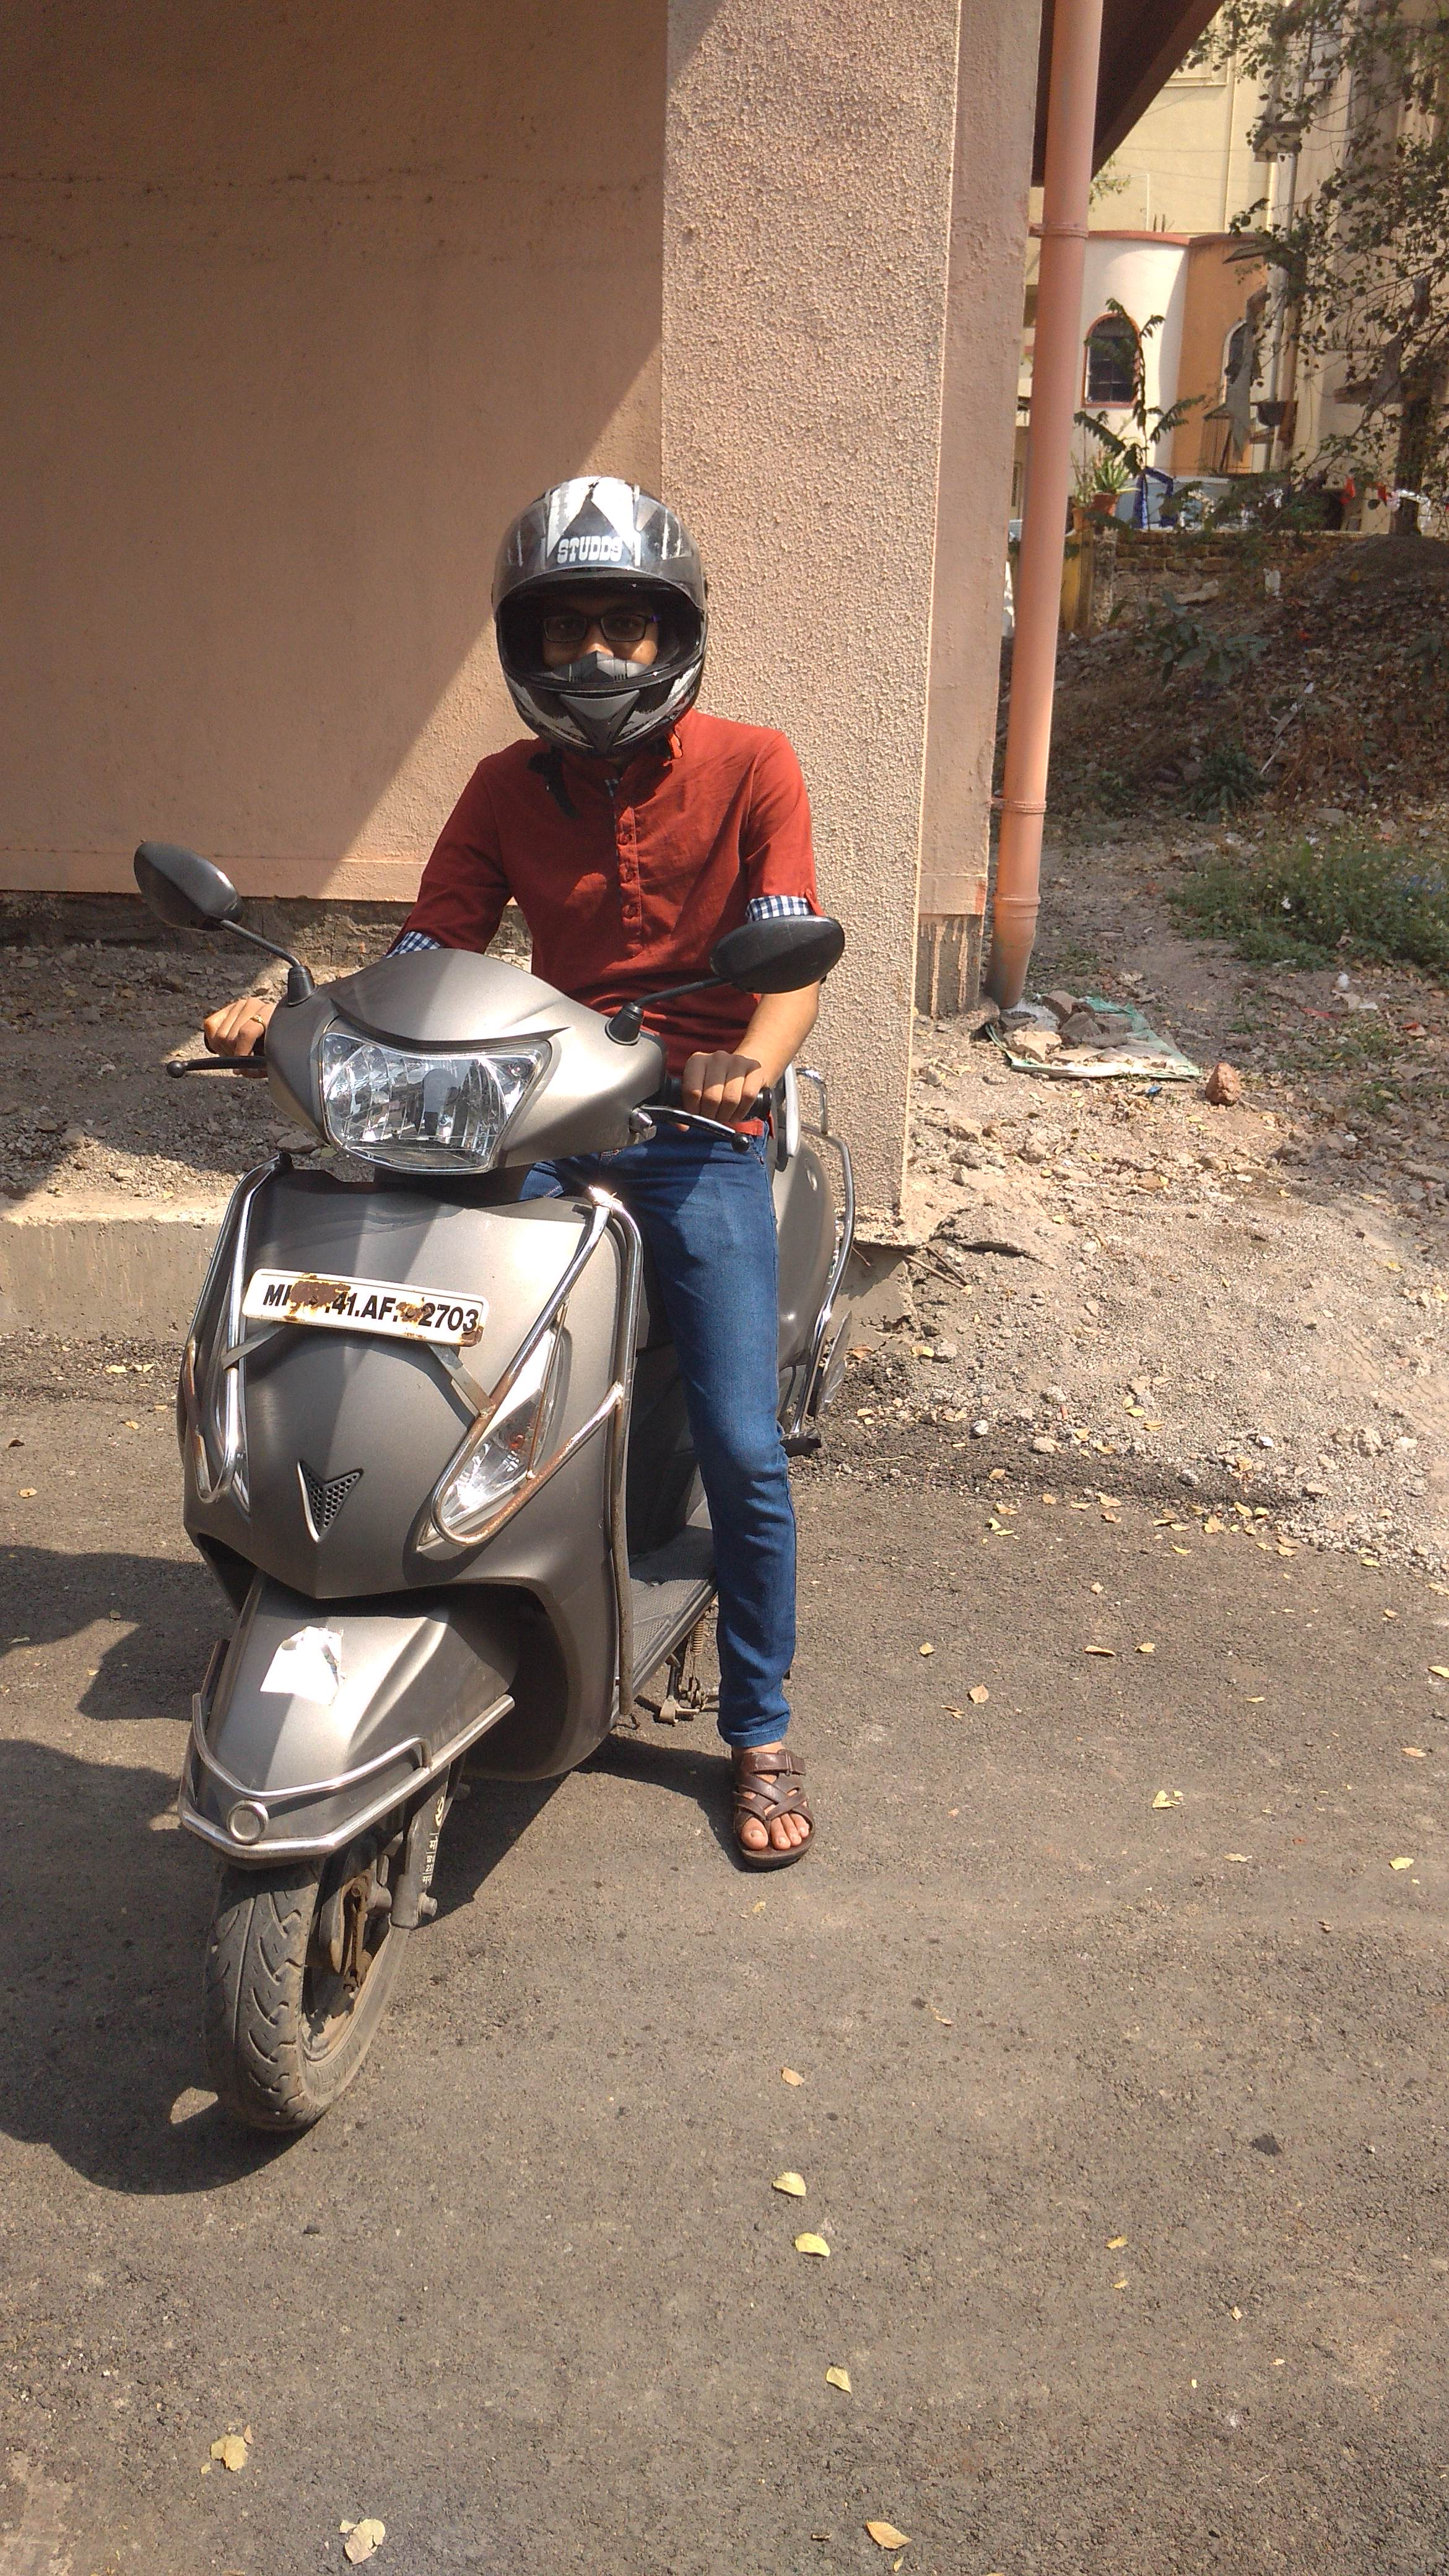helmet: (364, 437, 810, 1322)
